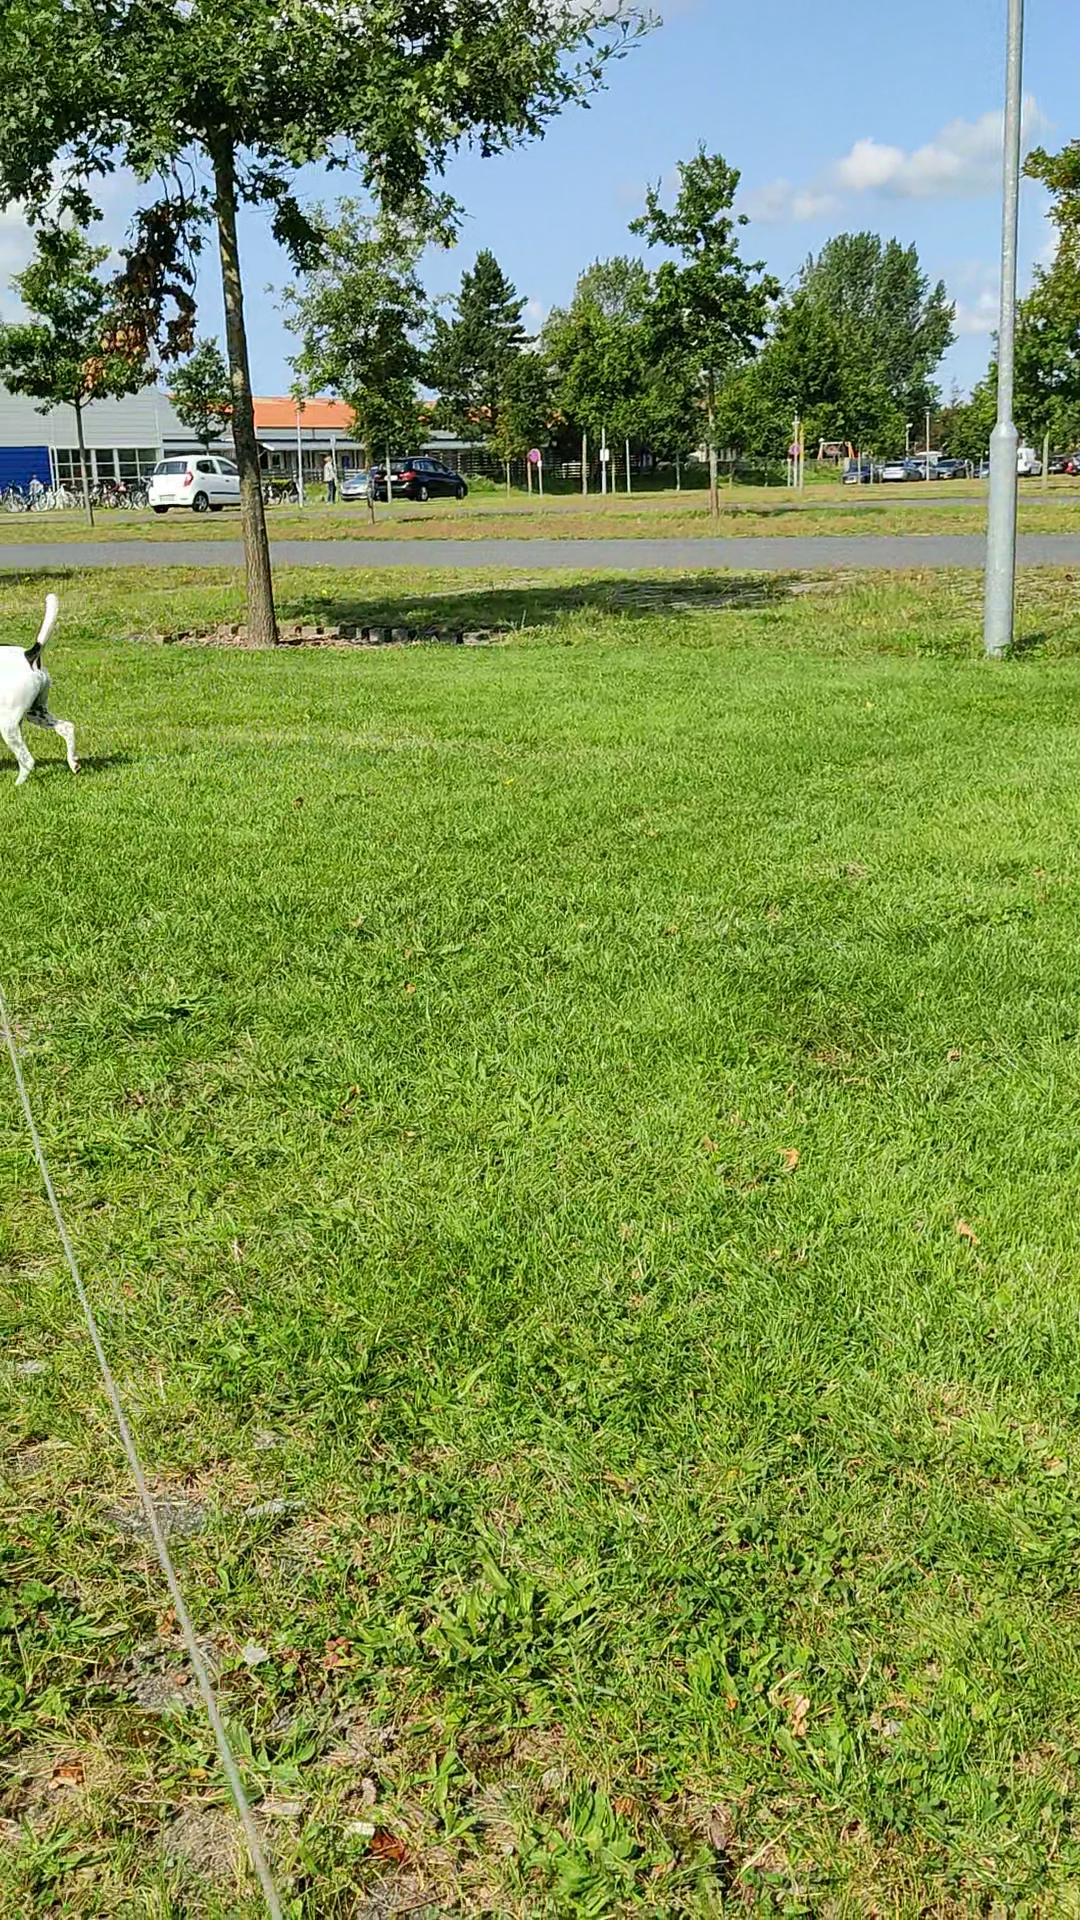Dog: (0, 587, 88, 786)
